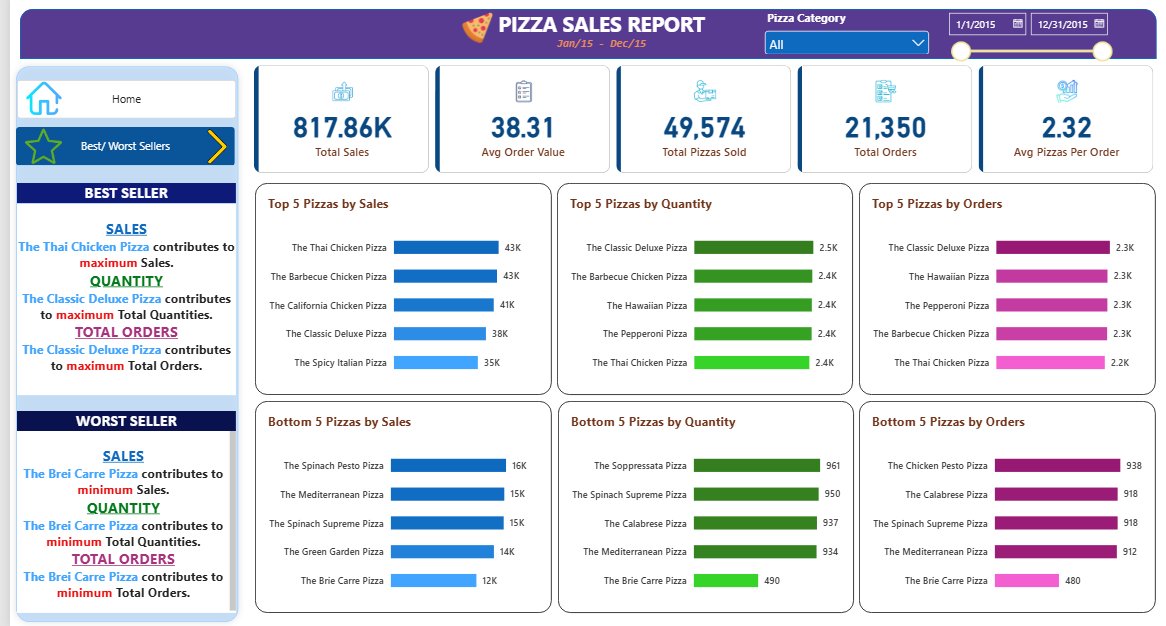

This screenshot's page, from the dashboard's own definition file:
{"tool":"powerbi","page":{"name":"Best/ Worst Sellers","canvas":[1500,820],"ordinal":1},"visuals":[{"type":"cardVisual","fields":{"Data":["Fact Pizza Sales.Total Sales","Fact Pizza Sales.Avg Order Value","Fact Pizza Sales.Total Pizzas Sold","Fact Pizza Sales.Total Orders","Fact Pizza Sales.Avg Pizzas Per Order"]},"box":[317.1,90,1170,140],"z":0},{"type":"shape","box":[13.1,17.1,1474.7,64.7],"z":1000},{"type":"textbox","box":[596.6,18.4,322,46],"z":2000},{"type":"textbox","box":[710,50,115.6,27.6],"z":3000},{"type":"image","box":[579.5,21,52.6,40.7],"z":4000},{"type":"barChart","title":"Top 5 Pizzas by Sales","fields":{"Category":["Dim Pizzas.Pizza Name"],"Y":["Fact Pizza Sales.Total Sales"]},"box":[317.4,243.2,385,275],"z":5000},{"type":"shape","box":[0,82.8,304.3,737.1],"z":6000},{"type":"textbox","box":[9,243.1,283.8,26.3],"z":7000},{"type":"textbox","box":[9.1,269.9,284.1,247.8],"z":8000},{"type":"textbox","box":[9.2,539,283.8,26],"z":9000},{"type":"textbox","box":[9.1,564.4,284.1,236.1],"z":10000},{"type":"slicer","fields":{"Values":["Dim Pizzas.Pizza Category"]},"box":[974.4,18.2,223.2,57.1],"z":11000},{"type":"slicer","fields":{"Values":["Dim Date.Order Date"]},"box":[1211.1,17.4,223,72.6],"z":12000},{"type":"clusteredBarChart","title":"Top 5 Pizzas by Quantity","fields":{"Category":["Dim Pizzas.Pizza Name"],"Y":["Fact Pizza Sales.Total Pizzas Sold"]},"box":[709.7,242.6,384.1,275.1],"z":13000},{"type":"clusteredBarChart","title":"Bottom 5 Pizzas by Orders","fields":{"Category":["Dim Pizzas.Pizza Name"],"Y":["Fact Pizza Sales.Total Orders"]},"box":[1102.1,525.8,385,275],"z":14000},{"type":"barChart","title":"Bottom 5 Pizzas by Sales","fields":{"Category":["Dim Pizzas.Pizza Name"],"Y":["Fact Pizza Sales.Total Sales"]},"box":[317.4,525.8,385,275],"z":14001},{"type":"clusteredBarChart","title":"Bottom 5 Pizzas by Quantity","fields":{"Category":["Dim Pizzas.Pizza Name"],"Y":["Fact Pizza Sales.Total Pizzas Sold"]},"box":[710.5,525.8,384.1,275.1],"z":14002},{"type":"clusteredBarChart","title":"Top 5 Pizzas by Orders","fields":{"Category":["Dim Pizzas.Pizza Name"],"Y":["Fact Pizza Sales.Total Orders"]},"box":[1102.1,243.2,385,275],"z":14003},{"type":"pageNavigator","box":[9.1,109,284.1,50.6],"z":14004},{"type":"pageNavigator","box":[7.8,170,284.1,50.6],"z":14005},{"type":"image","box":[246.5,170,45.4,50.6],"z":14006},{"type":"image","box":[9.1,110.3,70.1,45.4],"z":14007},{"type":"image","box":[19.5,170,48,50.6],"z":14008}]}

Visuals, with their boxes in screenshot pixels (x1, y1, x2, y2), scaled from the page's 1500x820 canvas onto the 1166x626 screenshot:
cardVisual - Fact Pizza Sales.Total Sales x Fact Pizza Sales.Avg Order Value: (246,69,1156,176)
shape: (10,13,1157,62)
textbox: (464,14,714,49)
textbox: (552,38,642,59)
image: (450,16,491,47)
"Top 5 Pizzas by Sales" barChart: (247,186,546,396)
shape: (0,63,237,625)
textbox: (7,186,228,206)
textbox: (7,206,228,395)
textbox: (7,411,228,431)
textbox: (7,431,228,611)
slicer - Dim Pizzas.Pizza Category: (757,14,931,57)
slicer - Dim Date.Order Date: (941,13,1115,69)
"Top 5 Pizzas by Quantity" clusteredBarChart: (552,185,850,395)
"Bottom 5 Pizzas by Orders" clusteredBarChart: (857,401,1156,611)
"Bottom 5 Pizzas by Sales" barChart: (247,401,546,611)
"Bottom 5 Pizzas by Quantity" clusteredBarChart: (552,401,851,611)
"Top 5 Pizzas by Orders" clusteredBarChart: (857,186,1156,396)
pageNavigator: (7,83,228,122)
pageNavigator: (6,130,227,168)
image: (192,130,227,168)
image: (7,84,62,119)
image: (15,130,52,168)
